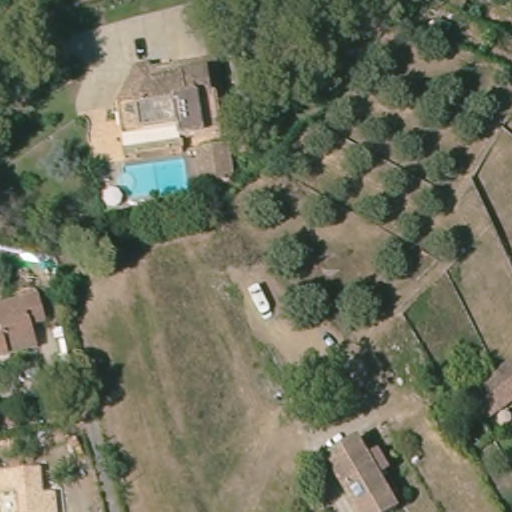pool: (109, 157, 195, 206)
